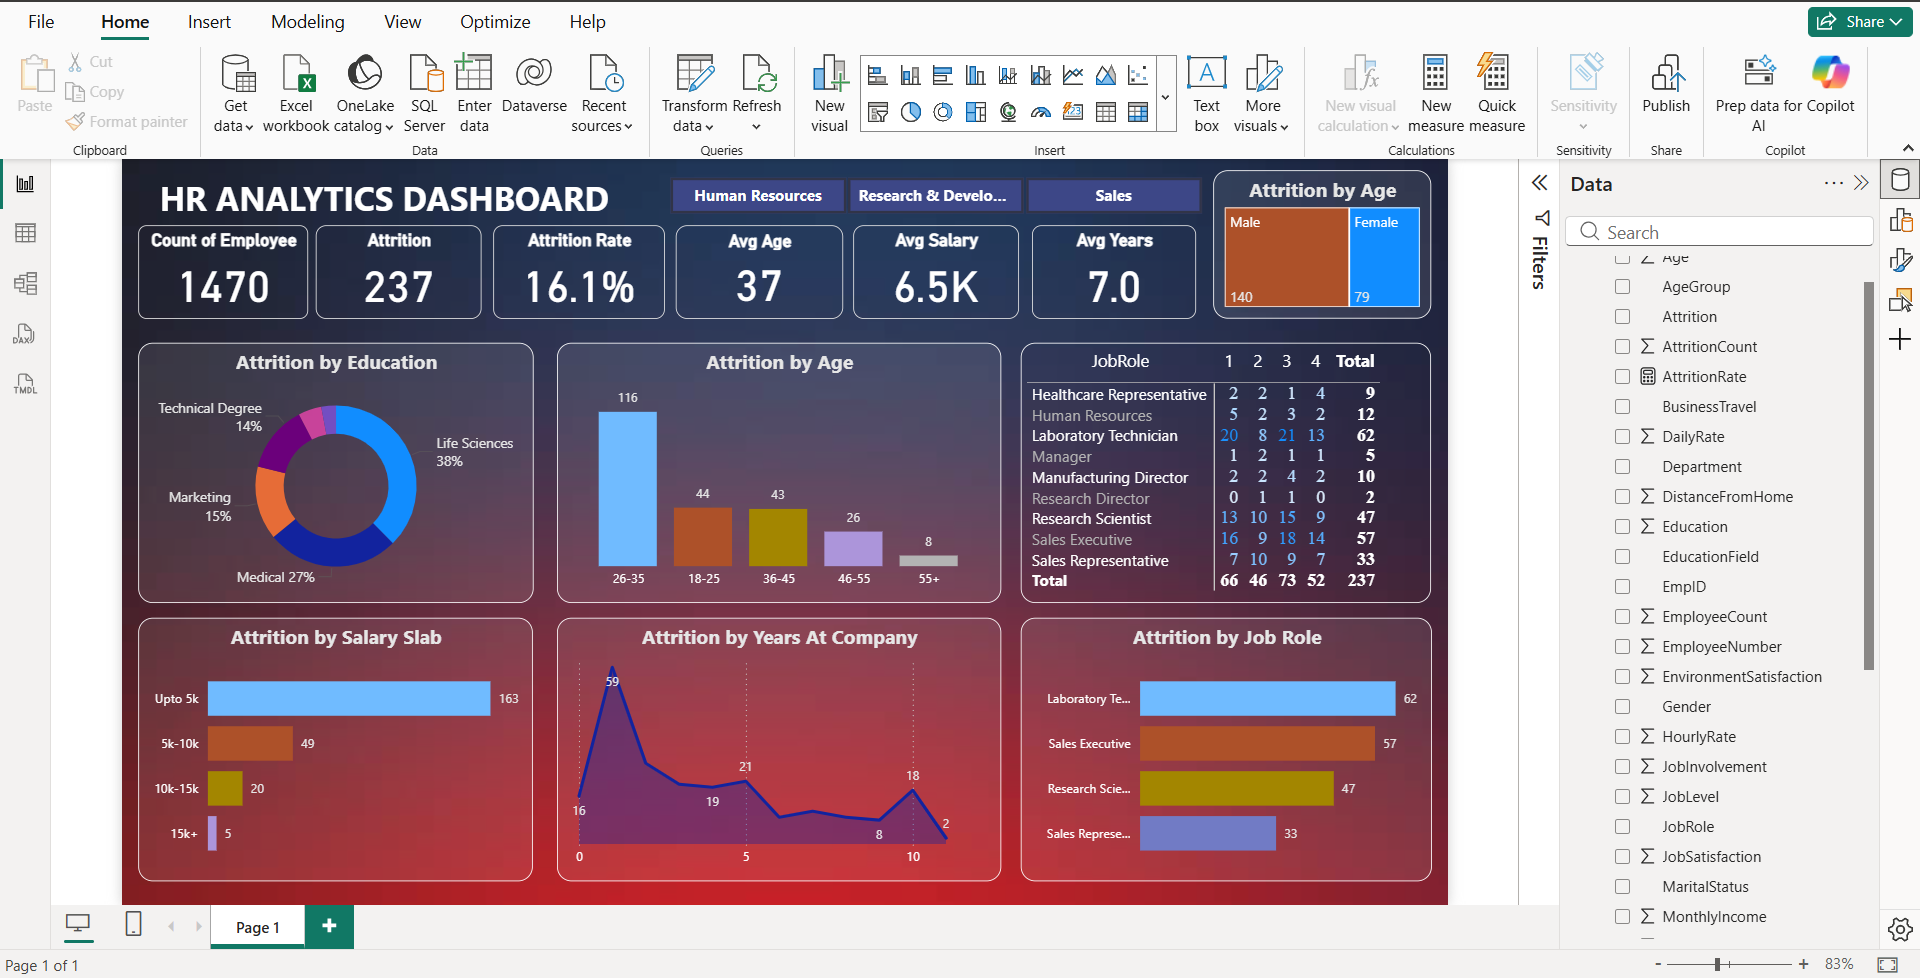

The page's visual inventory and layout, read from the dashboard file:
{"tool":"powerbi","page":{"name":"Page 1","canvas":[1280,720],"ordinal":0},"visuals":[{"type":"card","title":"Count of Employee","fields":{"Values":["CountNonNull(HR_Analytics.EmpID)"]},"box":[15.7,64.3,164.3,90],"z":0},{"type":"card","title":"Attrition Rate","fields":{"Values":["HR_Analytics.AttritionRate"]},"box":[358.6,64.3,165.7,90],"z":1000},{"type":"card","title":"Avg Age","fields":{"Values":["Avg(HR_Analytics.Age)"]},"box":[534.3,64.3,161.4,90],"z":2000},{"type":"card","title":"Attrition","fields":{"Values":["Sum(HR_Analytics.AttritionCount)"]},"box":[187.1,64.3,160,90],"z":3000},{"type":"card","title":"Avg Years","fields":{"Values":["Avg(HR_Analytics.YearsAtCompany)"]},"box":[878.6,64.3,158.6,90],"z":4000},{"type":"card","title":"Avg Salary","fields":{"Values":["Avg(HR_Analytics.MonthlyIncome)"]},"box":[705.7,64.3,160,90],"z":5000},{"type":"donutChart","title":"Attrition by Education","fields":{"Category":["HR_Analytics.EducationField"],"Y":["Sum(HR_Analytics.AttritionCount)"]},"box":[15.7,177.1,381.4,251.4],"z":6000},{"type":"columnChart","title":"Attrition by Age","fields":{"Category":["HR_Analytics.AgeGroup"],"Y":["Sum(HR_Analytics.AttritionCount)"]},"box":[420,177.1,428.6,251.4],"z":7000},{"type":"pivotTable","fields":{"Rows":["HR_Analytics.JobRole"],"Columns":["HR_Analytics.JobSatisfaction"],"Values":["Sum(HR_Analytics.AttritionCount)"]},"box":[867.1,177.1,395.7,251.4],"z":8000},{"type":"barChart","title":"Attrition by Salary Slab","fields":{"Category":["HR_Analytics.SalarySlab"],"Y":["Sum(HR_Analytics.AttritionCount)"]},"box":[15.7,442.9,381,254.3],"z":9000},{"type":"barChart","title":"Attrition by Job Role","fields":{"Y":["Sum(HR_Analytics.AttritionCount)"],"Category":["HR_Analytics.JobRole"]},"box":[867.1,442.9,397.1,254.3],"z":10000},{"type":"areaChart","title":"Attrition by Years At Company  ","fields":{"Category":["HR_Analytics.YearsAtCompany"],"Y":["Sum(HR_Analytics.AttritionCount)"]},"box":[420,442.9,428.6,254.3],"z":11000},{"type":"treemap","title":"Attrition by Age","fields":{"Group":["HR_Analytics.Gender"],"Values":["Sum(HR_Analytics.AttritionCount)"]},"box":[1052.9,11.4,210,142.9],"z":12000},{"type":"slicer","fields":{"Values":["HR_Analytics.Department"]},"box":[502.9,11.4,562.9,48.6],"z":13000},{"type":"textbox","box":[31.4,11.4,492.9,74.3],"z":14000}]}

Visuals, with their boxes on the page's 1280x720 design canvas (x1, y1, x2, y2). These are canvas units, not pixel positions in the 1920x978 screenshot, which may show the page scaled, cropped or inside an application window:
"Count of Employee" card: <region>16, 64, 180, 154</region>
"Attrition Rate" card: <region>359, 64, 524, 154</region>
"Avg Age" card: <region>534, 64, 696, 154</region>
"Attrition" card: <region>187, 64, 347, 154</region>
"Avg Years" card: <region>879, 64, 1037, 154</region>
"Avg Salary" card: <region>706, 64, 866, 154</region>
"Attrition by Education" donutChart: <region>16, 177, 397, 428</region>
"Attrition by Age" columnChart: <region>420, 177, 849, 428</region>
pivotTable - HR_Analytics.JobRole x HR_Analytics.JobSatisfaction: <region>867, 177, 1263, 428</region>
"Attrition by Salary Slab" barChart: <region>16, 443, 397, 697</region>
"Attrition by Job Role" barChart: <region>867, 443, 1264, 697</region>
"Attrition by Years At Company  " areaChart: <region>420, 443, 849, 697</region>
"Attrition by Age" treemap: <region>1053, 11, 1263, 154</region>
slicer - HR_Analytics.Department: <region>503, 11, 1066, 60</region>
textbox: <region>31, 11, 524, 86</region>
